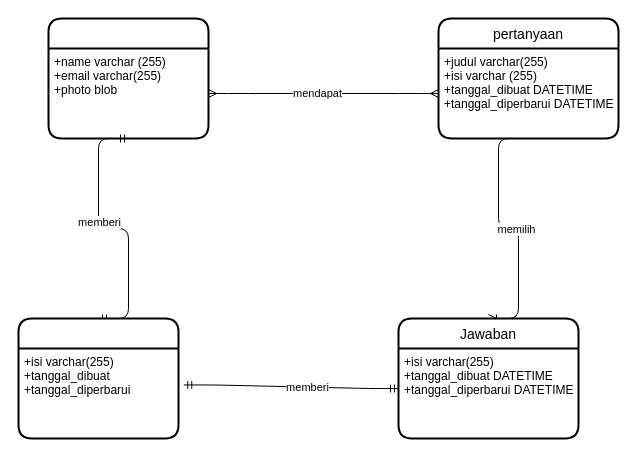
This 636x456 diagram has some shape labels left out. Each missing label, with the box of its shape:
komentar: (17, 317, 179, 439)
profile: (47, 17, 209, 139)
